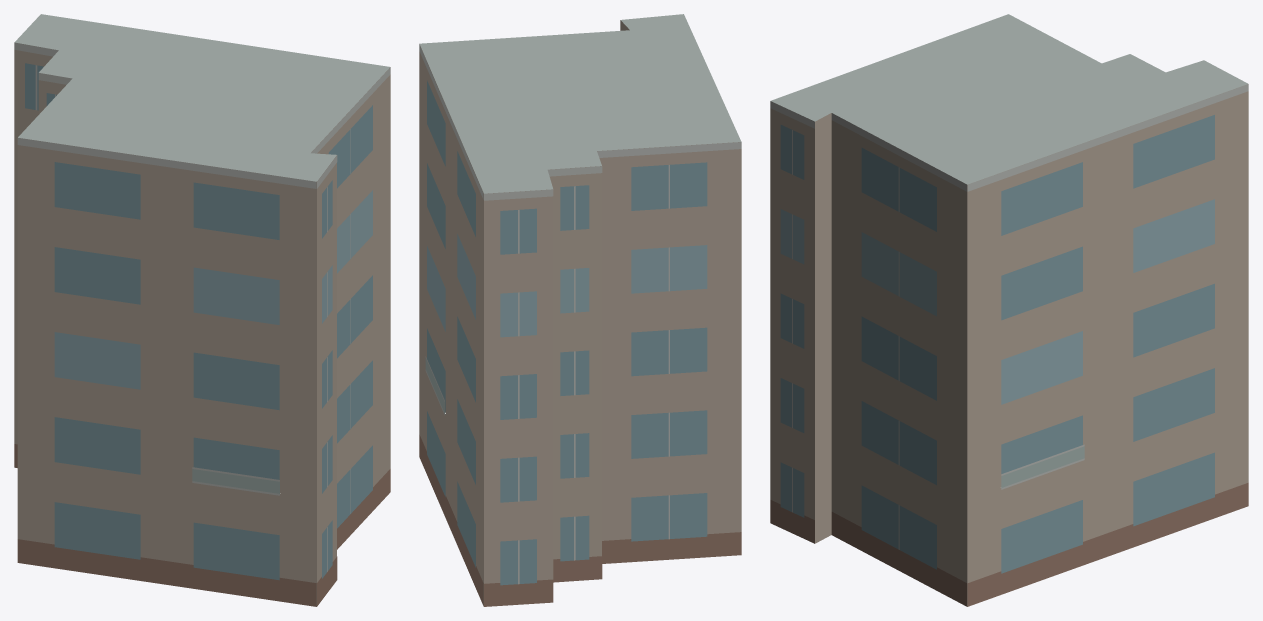
Rendered from survey-upis-32652480.glb.
The picture shows the model from 3 angles, left to right: view 1: azimuth 30°, elevation 25°; view 2: azimuth 150°, elevation 25°; view 3: azimuth 270°, elevation 25°; orthographic projection. The views are drawn at different scales.
Parts seen in each view (by area): view 1: survey-upis-32652480.tmp; view 2: survey-upis-32652480.tmp; view 3: survey-upis-32652480.tmp.
Boxes of the visible parts, x1,y1,x2,y2 form: survey-upis-32652480.tmp: (14, 14, 390, 606); survey-upis-32652480.tmp: (419, 14, 741, 606); survey-upis-32652480.tmp: (770, 14, 1248, 606).
Size of the model in its own units: 12.32 by 14.2 by 14.59.
